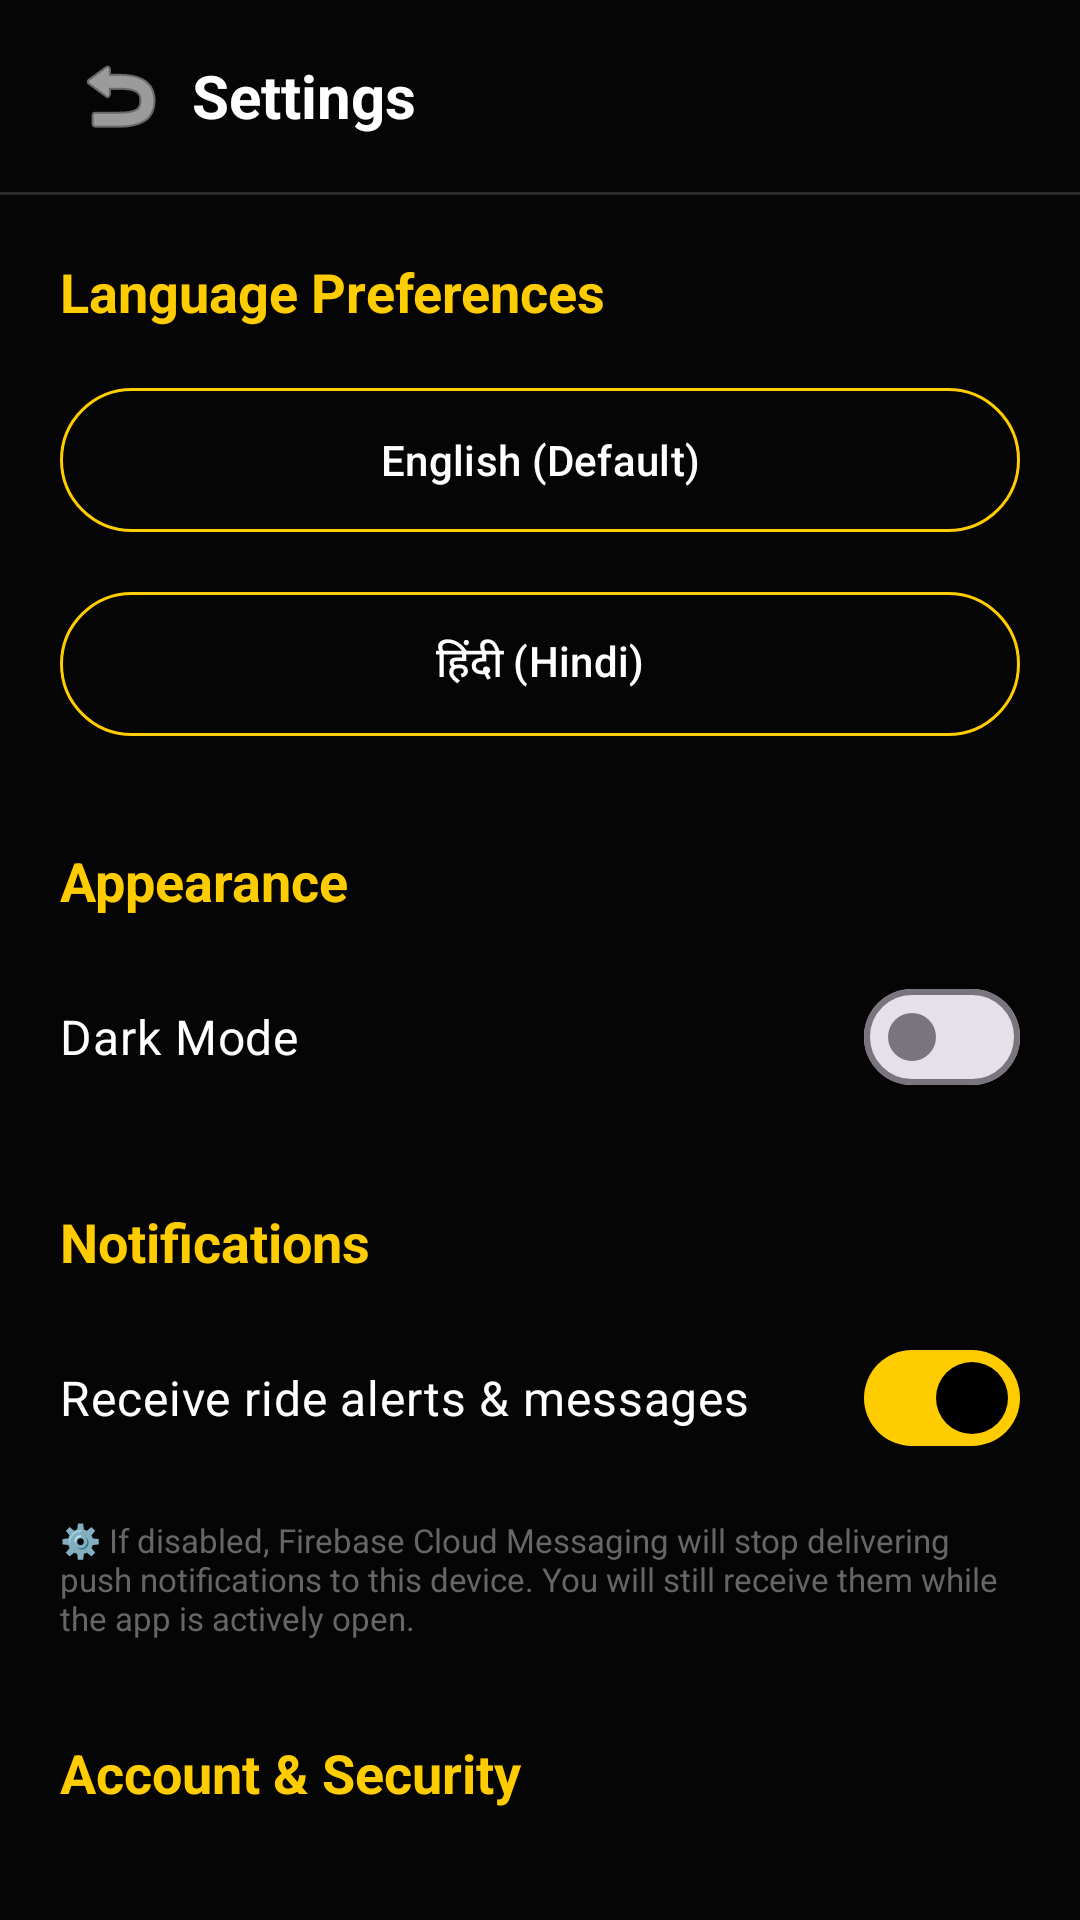

Locate icon controls on the screen. Image size 1080 × 1920, boxes as (x1, y1, x2, y2).
revert: (87, 65, 156, 128)
